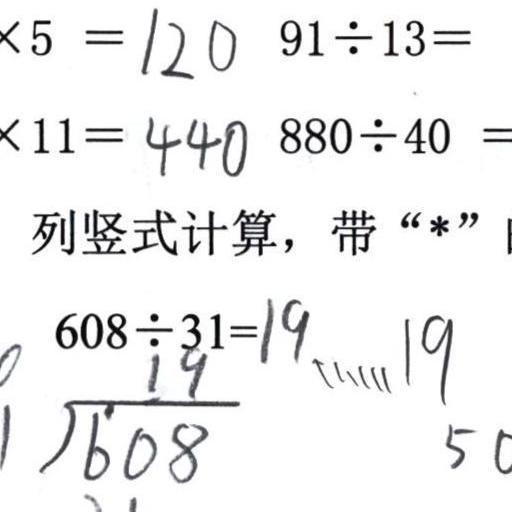ans: (256, 292, 457, 404), (135, 2, 237, 80), (140, 108, 248, 178)
